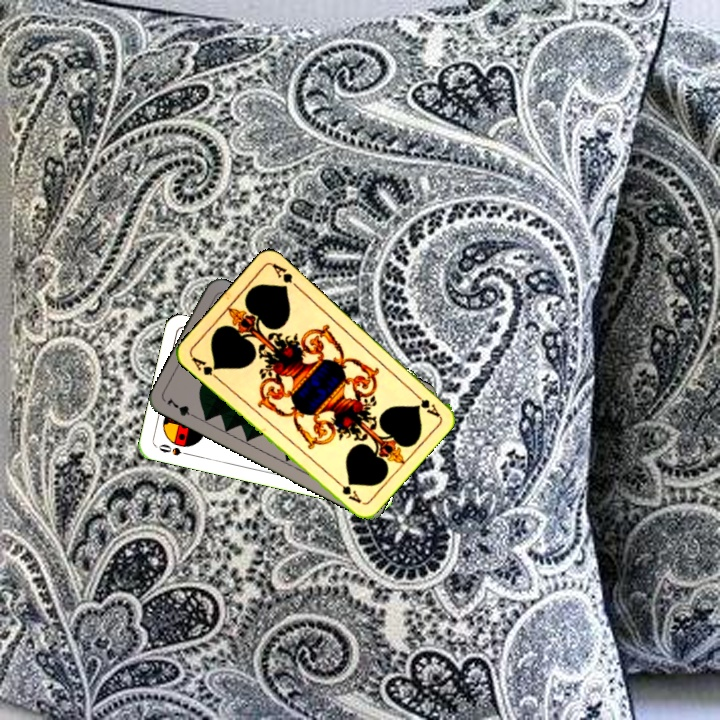G7: (162, 393, 200, 421)
GA: (187, 352, 222, 383), (409, 387, 442, 419)
SO: (153, 440, 193, 458)
